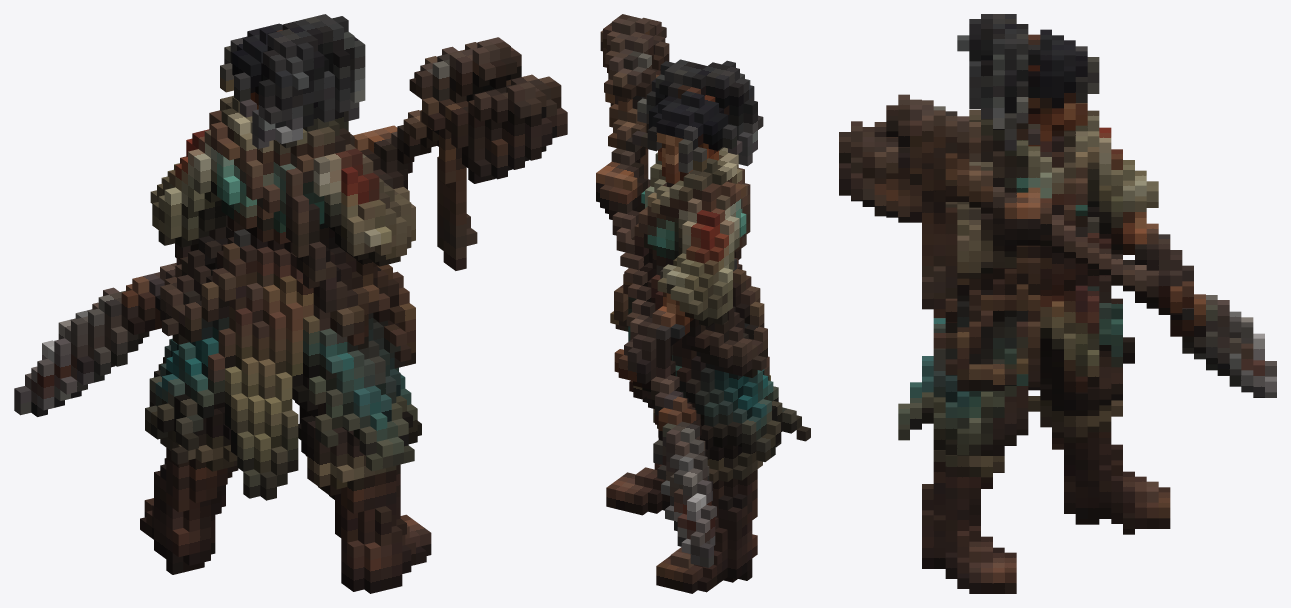
The model's file is u_brasse.glb.
The picture shows the model from 3 angles, left to right: view 1: azimuth 30°, elevation 25°; view 2: azimuth 150°, elevation 25°; view 3: azimuth 270°, elevation 25°; orthographic projection. The views are drawn at different scales.
Visible parts, largest first — view 1: brasse_body; view 2: brasse_body; view 3: brasse_body.
Boxes of the visible parts, x1,y1,x2,y2 form: brasse_body: (14,14,567,593); brasse_body: (596,14,810,593); brasse_body: (839,14,1276,593).
Bounding box in the file's own units: 0.9203 × 1.45 × 1.1.
Materials: 1 (1 with a texture image).
